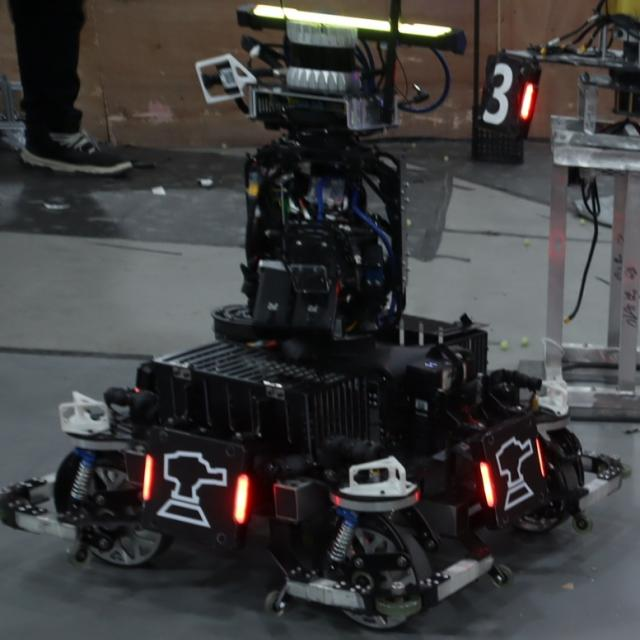R3: (478, 62, 534, 128)
Rs: (141, 448, 246, 527), (481, 434, 547, 513)
